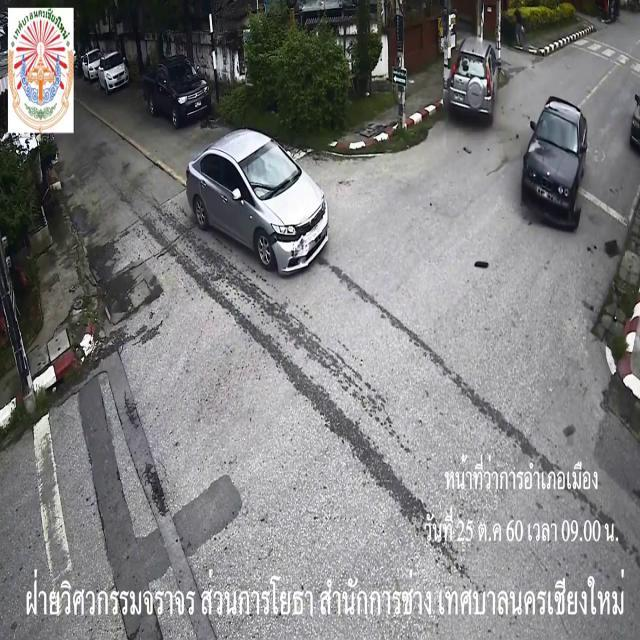multiple_accident: (148, 98, 347, 302), (485, 83, 615, 227)
